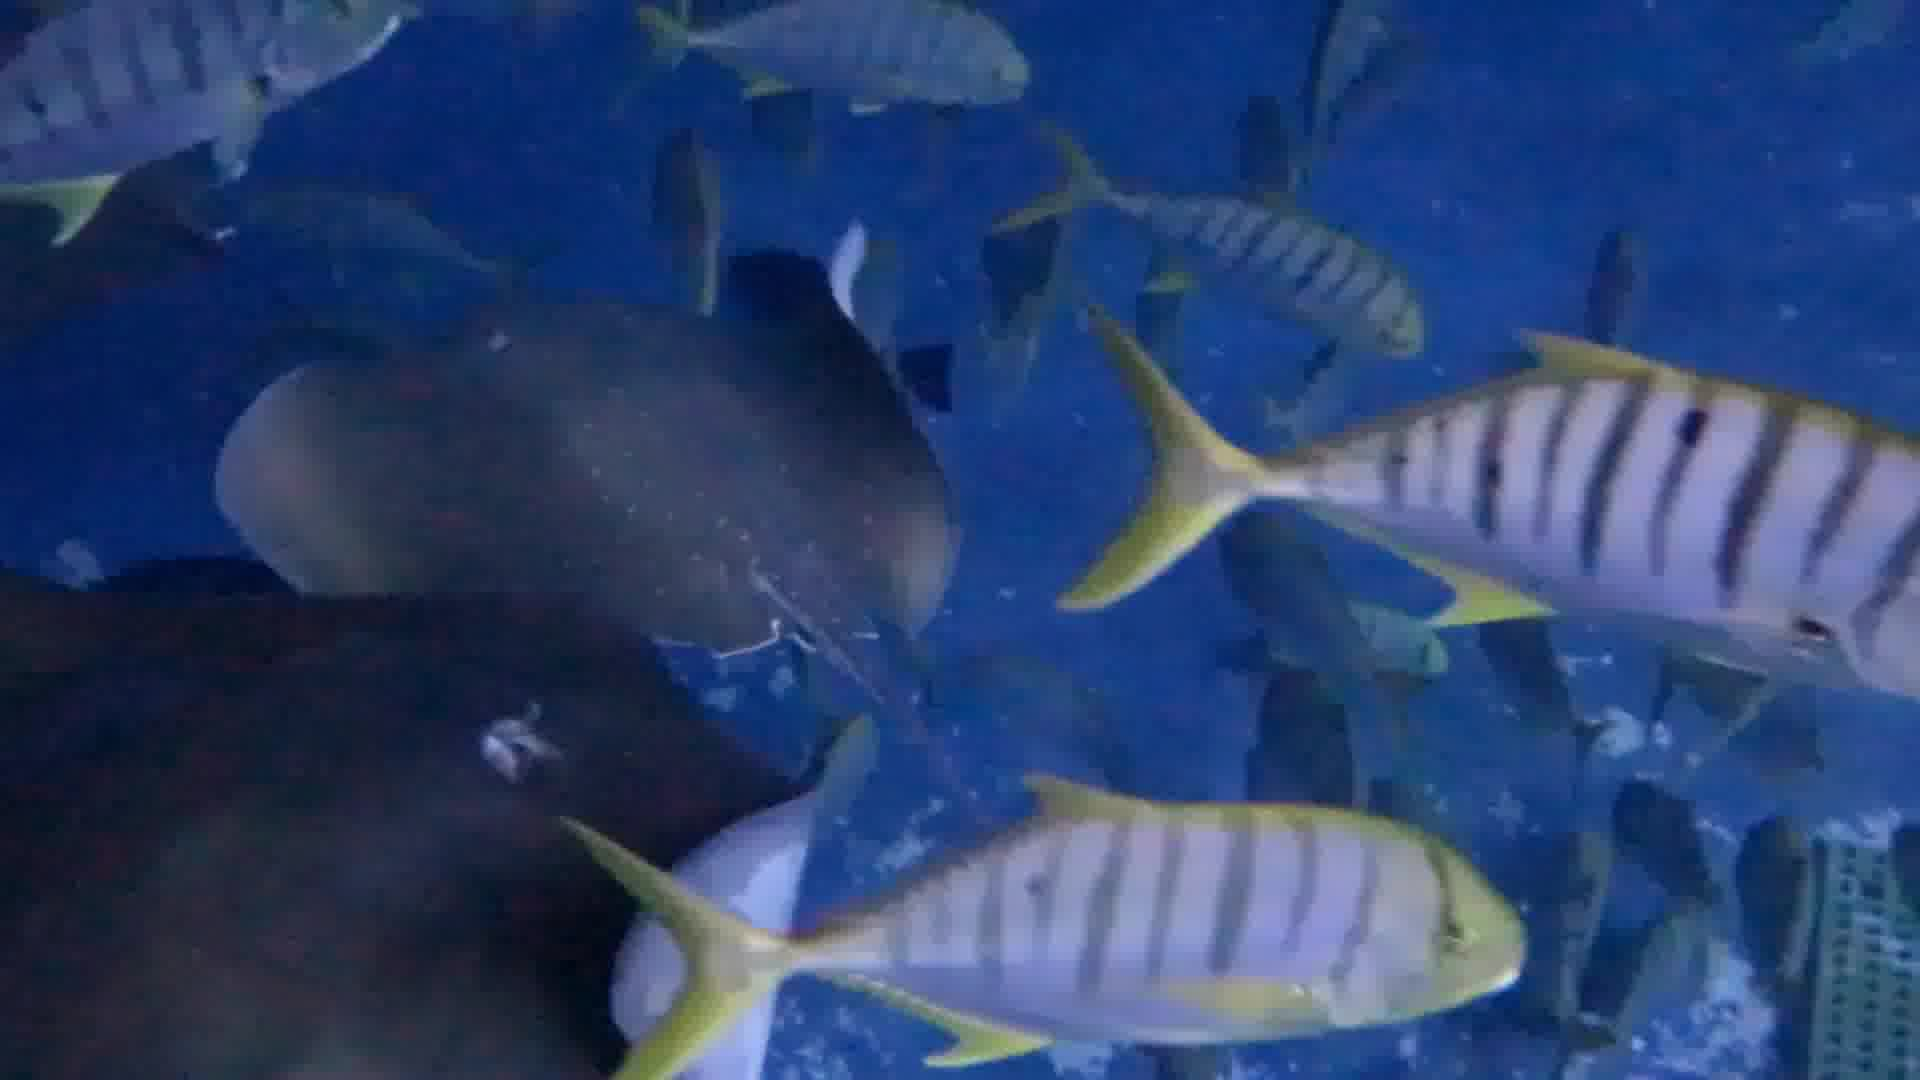Himantura gerrardi: (187, 258, 1062, 650)
